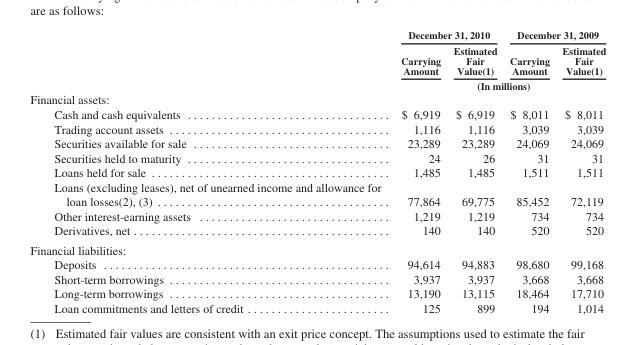table: (29, 29, 605, 314)
table column: (29, 29, 390, 314), (390, 29, 446, 314), (446, 29, 502, 314), (502, 29, 555, 314), (555, 29, 605, 314)
table column header: (29, 29, 605, 91)
table projected row header: (29, 239, 605, 256), (29, 91, 605, 106)
table row: (29, 42, 605, 77), (29, 179, 605, 208), (29, 222, 605, 239), (29, 239, 605, 256), (29, 91, 605, 106), (29, 106, 605, 121), (29, 135, 605, 150), (29, 164, 605, 179), (29, 256, 605, 271), (29, 285, 605, 300), (29, 77, 605, 91), (29, 121, 605, 135), (29, 150, 605, 164), (29, 208, 605, 222), (29, 271, 605, 285), (29, 300, 605, 314), (29, 29, 605, 42)
table spanning cell: (390, 77, 605, 91), (390, 29, 502, 42), (502, 29, 605, 42)
